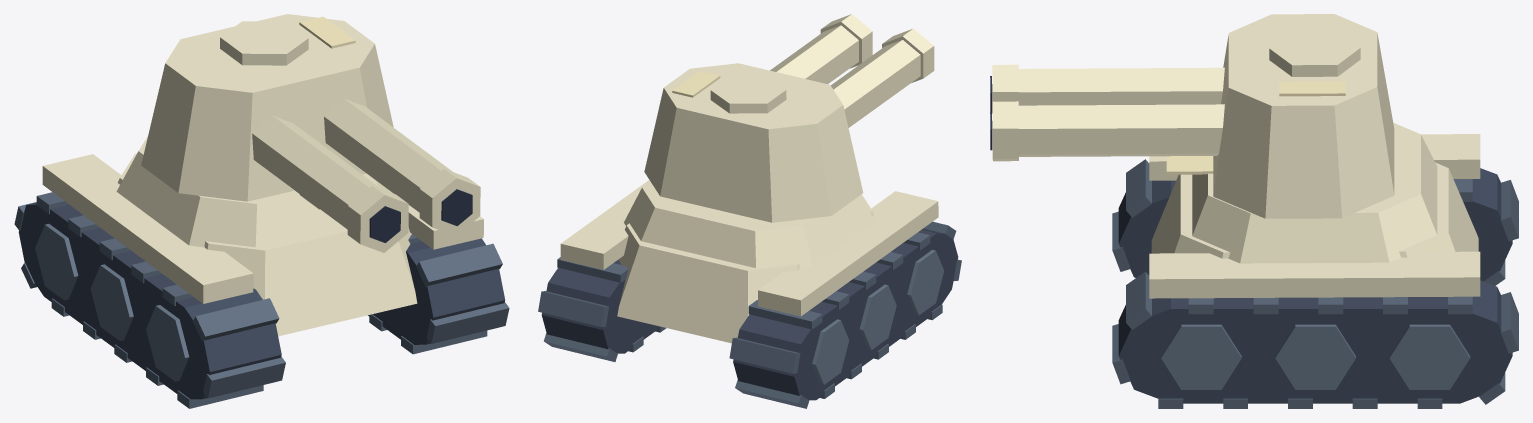
Rendered from tank_06_ivory_duelist.glb.
3 renders of one model, left to right at view 1: azimuth 30°, elevation 25°; view 2: azimuth 150°, elevation 25°; view 3: azimuth 270°, elevation 25°, orthographic. The views are drawn at different scales.
Visible parts, largest first — view 1: 06 | Armored turret.002, 06 | Track belt.001, 06 | Lower hull.001, 06 | Track guard.001, 06 | Upper deck.001, 06 | Cannon tube.001, 06 | Cannon tube.002, 06 | Track belt.002, 06 | Commander hatch.001, 06 | Muzzle rim.002, 06 | Muzzle rim.001, 06 | Road wheel.001 (+12 smaller); view 2: 06 | Armored turret.002, 06 | Upper deck.001, 06 | Lower hull.001, 06 | Track belt.001, 06 | Track guard.001, 06 | Track belt.002, 06 | Cannon tube.001, 06 | Track guard.002, 06 | Cannon tube.002, 06 | Commander hatch.001, 06 | Road wheel.001, 06 | Road wheel.002 (+10 smaller); view 3: 06 | Armored turret.002, 06 | Track belt.002, 06 | Upper deck.001, 06 | Track guard.002, 06 | Cannon tube.002, 06 | Cannon tube.001, 06 | Lower hull.001, 06 | Track belt.001, 06 | Road wheel.005, 06 | Road wheel.006, 06 | Road wheel.004, 06 | Commander hatch.001 (+11 smaller).
Part boxes in pixels (x1,y1,x2,y2): 06 | Armored turret.002: [141, 14, 393, 201]; 06 | Track belt.001: [18, 202, 281, 399]; 06 | Lower hull.001: [117, 153, 417, 336]; 06 | Track guard.001: [42, 154, 253, 303]; 06 | Upper deck.001: [116, 136, 393, 247]; 06 | Cannon tube.001: [252, 115, 380, 229]; 06 | Cannon tube.002: [324, 98, 452, 212]; 06 | Track belt.002: [368, 238, 505, 344]; 06 | Commander hatch.001: [220, 21, 308, 65]; 06 | Muzzle rim.002: [419, 169, 480, 235]; 06 | Muzzle rim.001: [347, 185, 408, 252]; 06 | Road wheel.001: [146, 305, 189, 381]; 06 | Armored turret.002: [644, 63, 863, 222]; 06 | Upper deck.001: [624, 181, 875, 268]; 06 | Lower hull.001: [617, 194, 873, 343]; 06 | Track belt.001: [733, 228, 958, 400]; 06 | Track guard.001: [758, 191, 938, 316]; 06 | Track belt.002: [541, 259, 659, 353]; 06 | Cannon tube.001: [831, 40, 920, 127]; 06 | Track guard.002: [560, 180, 650, 269]; 06 | Cannon tube.002: [770, 25, 858, 84]; 06 | Commander hatch.001: [710, 76, 786, 113]; 06 | Road wheel.001: [907, 249, 944, 315]; 06 | Road wheel.002: [859, 284, 896, 350]; 06 | Armored turret.002: [1213, 14, 1394, 218]; 06 | Track belt.002: [1118, 280, 1512, 403]; 06 | Upper deck.001: [1192, 123, 1437, 263]; 06 | Track guard.002: [1149, 251, 1480, 298]; 06 | Cannon tube.002: [1018, 104, 1224, 156]; 06 | Cannon tube.001: [1018, 67, 1224, 105]; 06 | Lower hull.001: [1151, 162, 1478, 258]; 06 | Track belt.001: [1118, 168, 1512, 281]; 06 | Road wheel.005: [1275, 324, 1355, 389]; 06 | Road wheel.006: [1389, 324, 1470, 389]; 06 | Road wheel.004: [1161, 324, 1241, 389]; 06 | Commander hatch.001: [1269, 31, 1360, 76].
Bounding box in the file's own units: 1.52 × 1.34 × 2.23.
